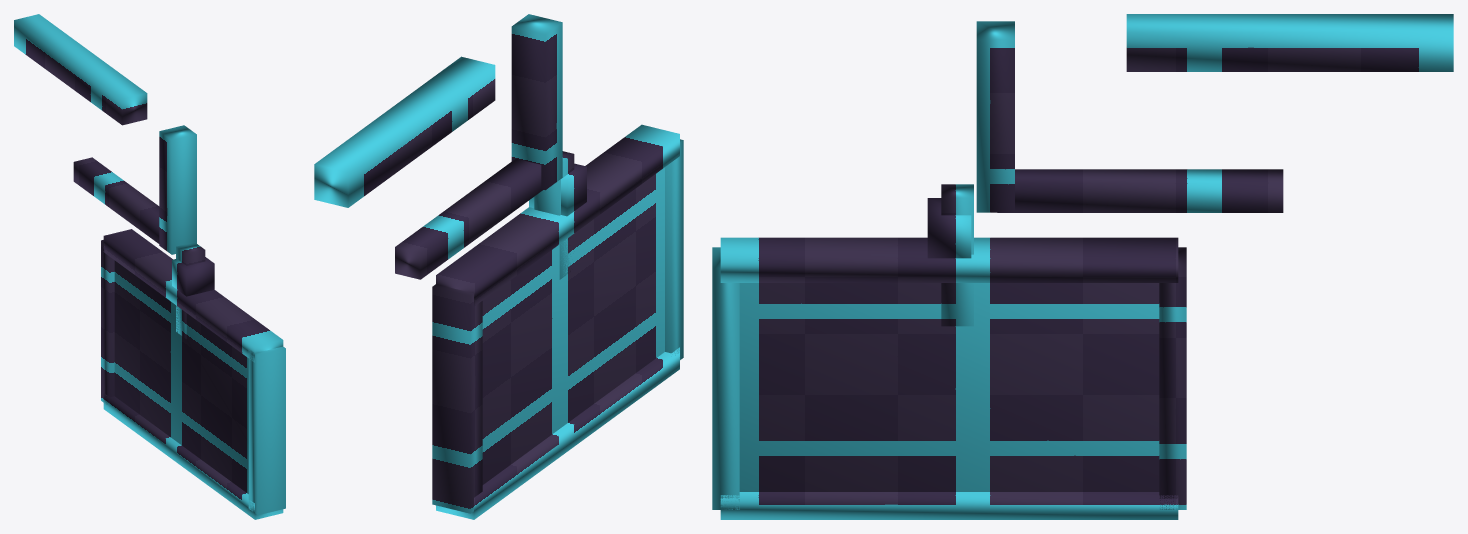
The model's file is SM_Prop_CairoSign_A.obj.
The picture shows the model from 3 angles, left to right: view 1: azimuth 30°, elevation 25°; view 2: azimuth 150°, elevation 25°; view 3: azimuth 270°, elevation 25°; orthographic projection. The views are drawn at different scales.
Parts seen in each view (by area): view 1: SM_Prop_CairoSign_A; view 2: SM_Prop_CairoSign_A; view 3: SM_Prop_CairoSign_A.
Boxes of the visible parts, x1,y1,x2,y2 form: SM_Prop_CairoSign_A: (14, 14, 285, 519); SM_Prop_CairoSign_A: (314, 14, 683, 519); SM_Prop_CairoSign_A: (712, 14, 1453, 519).
Size of the model in its own units: 0.18 by 1.97 by 2.72.
Materials: 1 (1 with a texture image).
